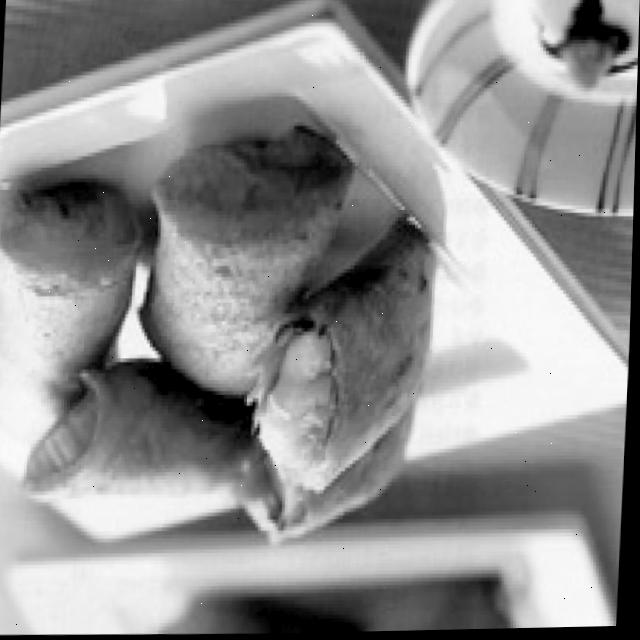鸡蛋料理: (0, 115, 446, 573)
